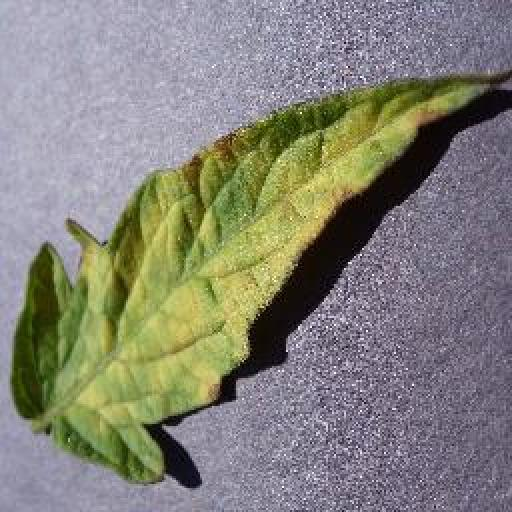disease_tomato: (9, 76, 492, 484)
